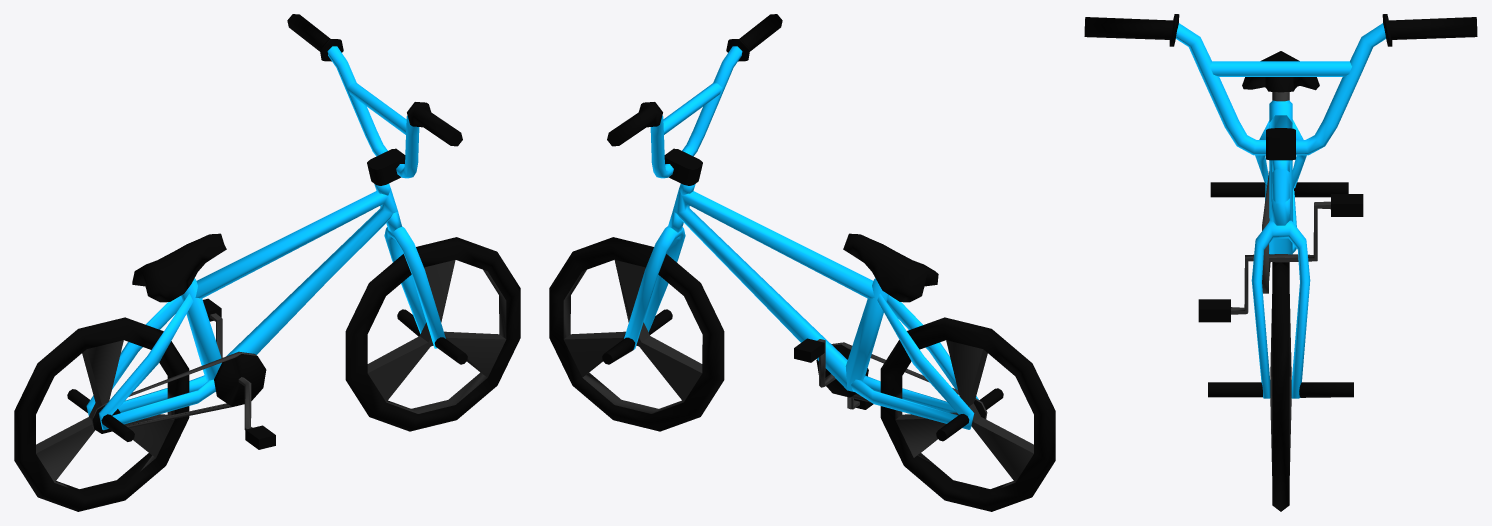
File: BicycleBmxPegsBlue.glb
The picture shows the model from 3 angles, left to right: view 1: azimuth 30°, elevation 25°; view 2: azimuth 150°, elevation 25°; view 3: azimuth 270°, elevation 25°; orthographic projection. The views are drawn at different scales.
Visible parts, largest first — view 1: BicycleBmxPegsBlue; view 2: BicycleBmxPegsBlue; view 3: BicycleBmxPegsBlue.
Part boxes in pixels (x1,y1,x2,y2): BicycleBmxPegsBlue: (14, 14, 520, 511); BicycleBmxPegsBlue: (549, 14, 1055, 511); BicycleBmxPegsBlue: (1084, 14, 1477, 511).
Bounding box in the file's own units: 1.84 × 1.28 × 1.02.
1 material, 1 textured.
